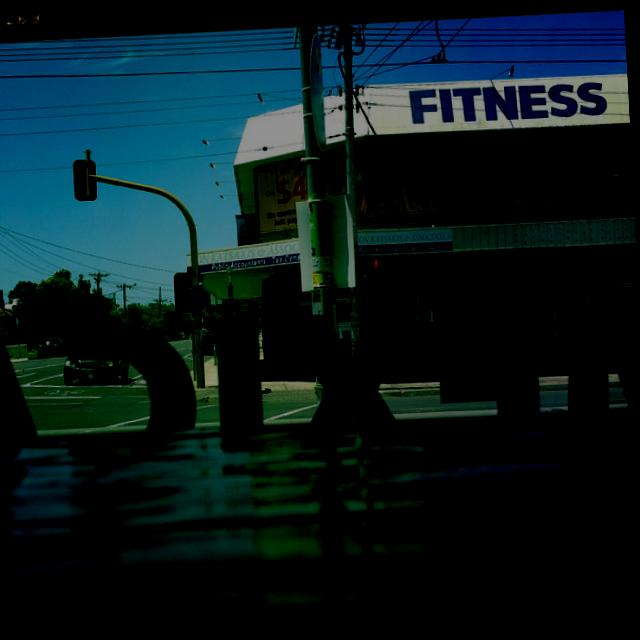Vehicle: (64, 352, 131, 388), (37, 336, 67, 359), (200, 333, 217, 354), (162, 333, 174, 341)
